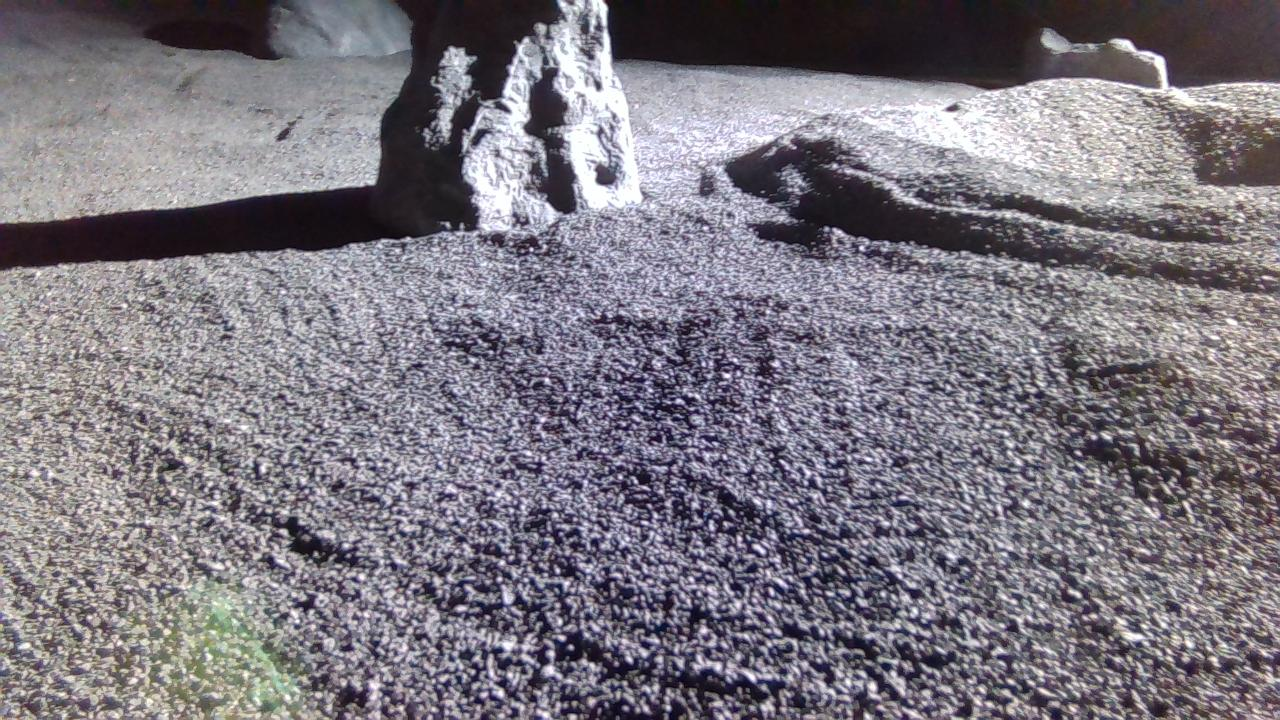rock: (370, 0, 642, 234), (1026, 26, 1171, 86), (267, 0, 411, 56)
